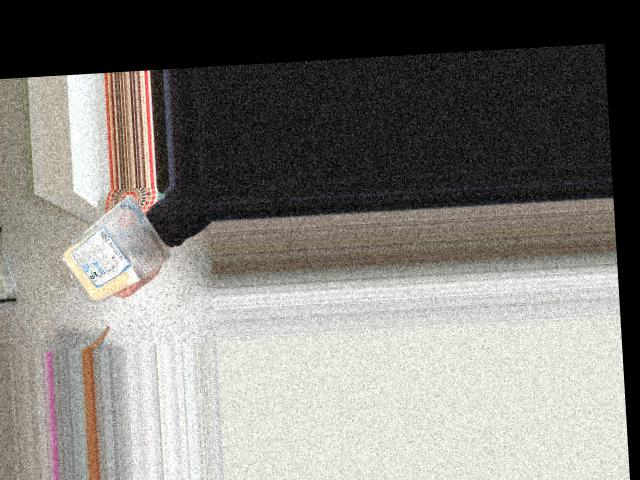cheese: (54, 203, 158, 291)
